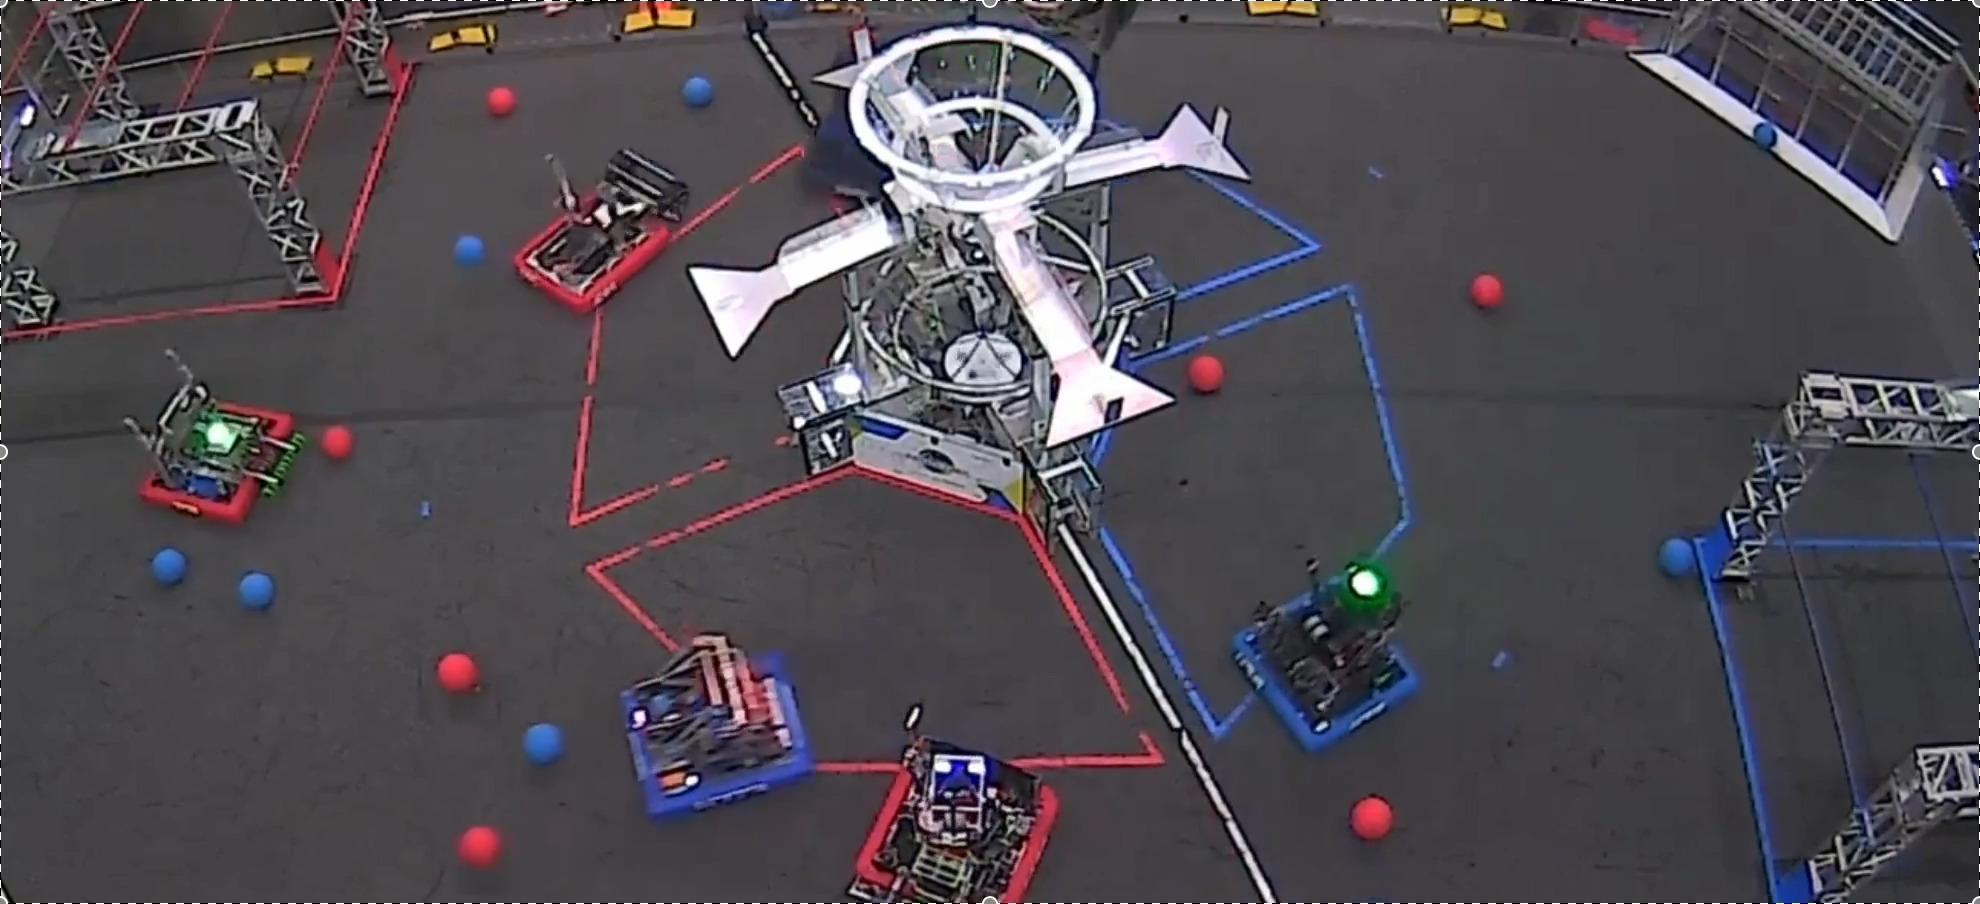Robots: (849, 705, 1058, 901), (621, 633, 813, 818), (1232, 561, 1416, 751), (122, 350, 302, 523), (514, 148, 689, 312), (804, 20, 934, 192)
